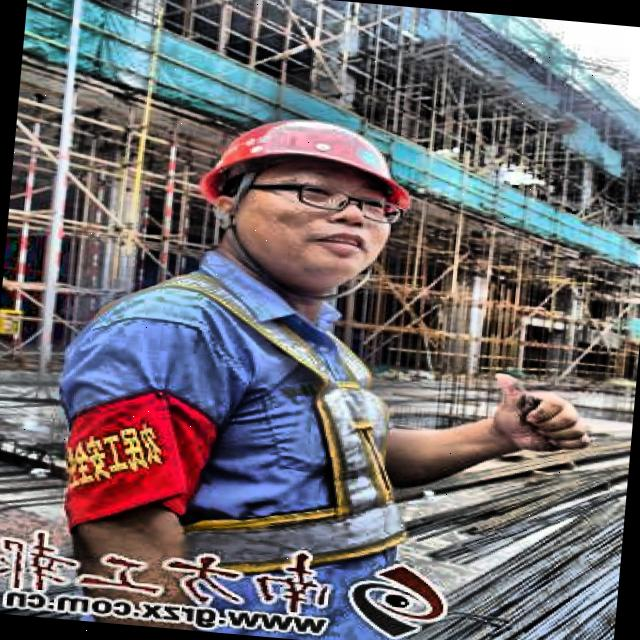helmet: (177, 80, 436, 312)
